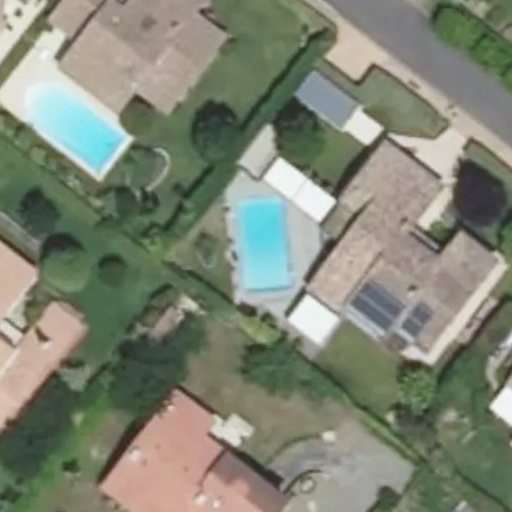pool: (230, 201, 281, 283)
